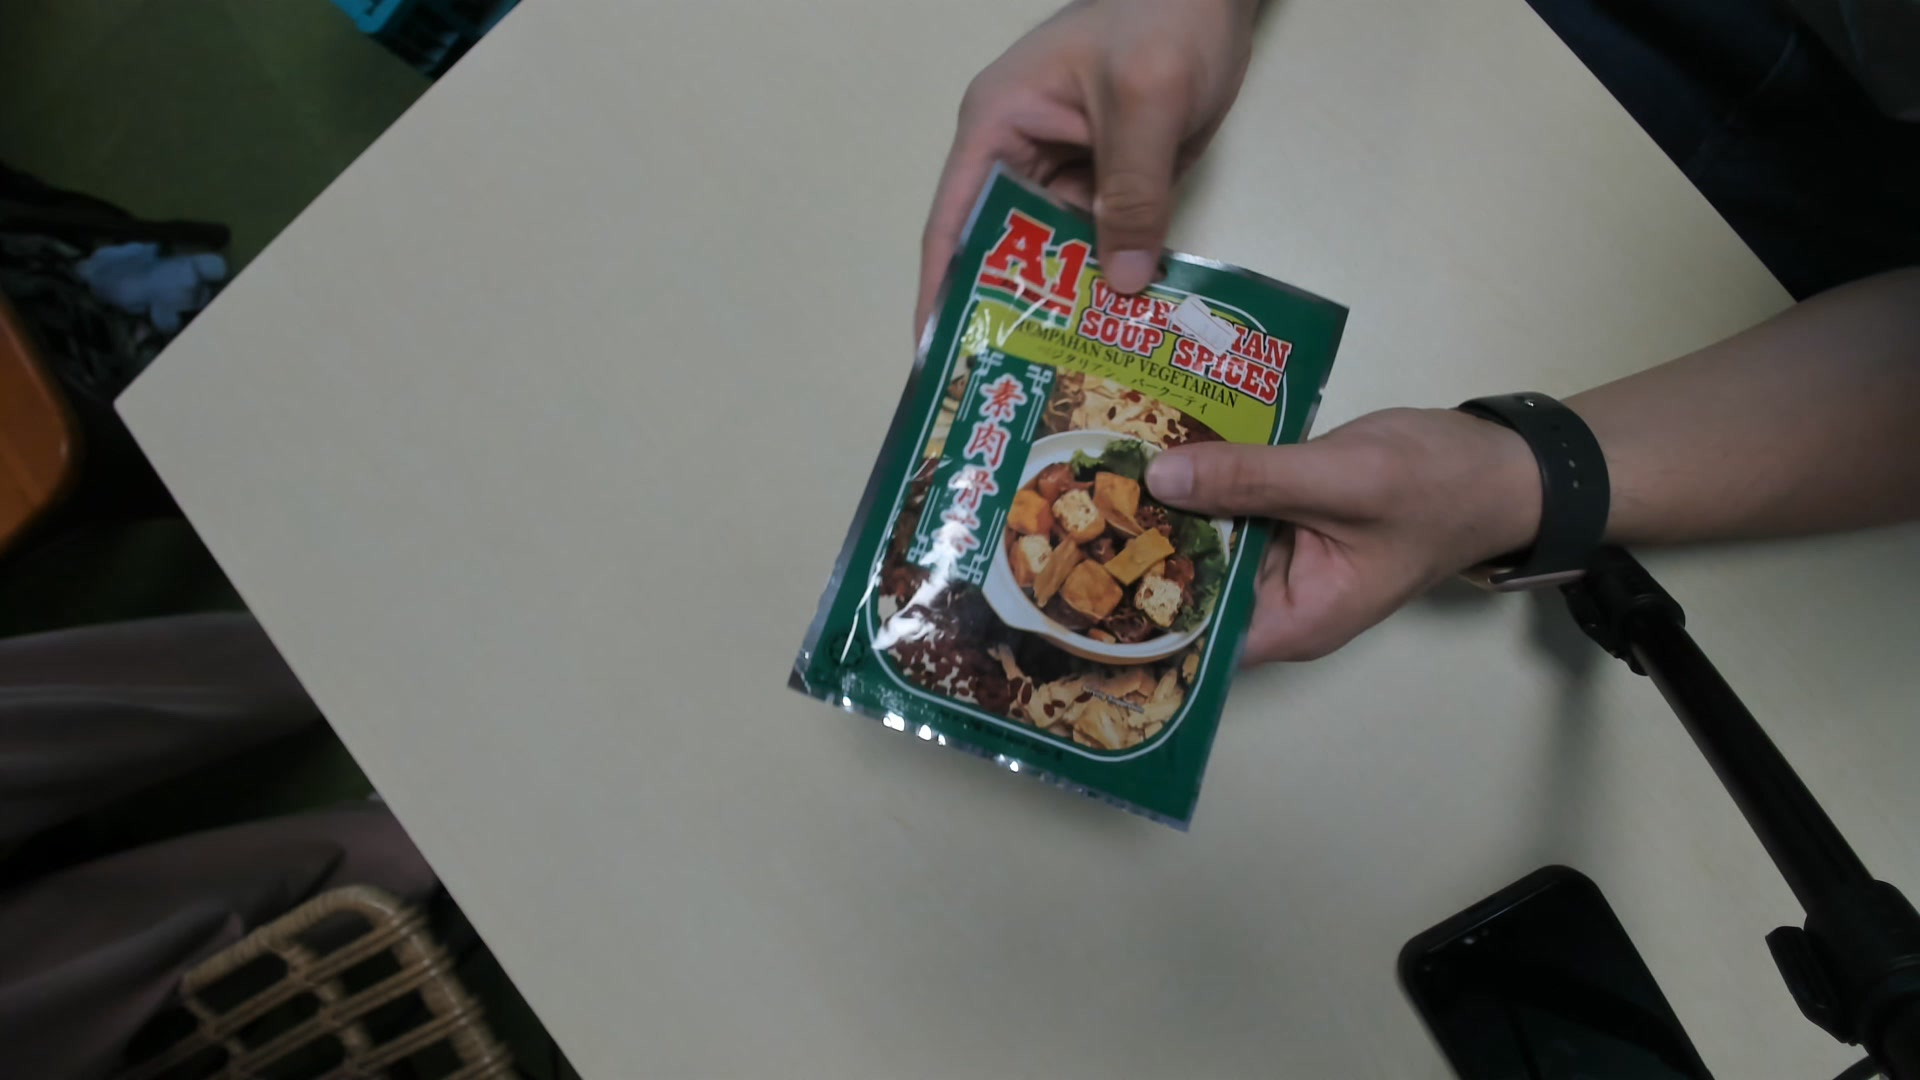OtherSauceDressing_0-99g_NonHalal_NonHealthy: (779, 164, 1354, 822)
